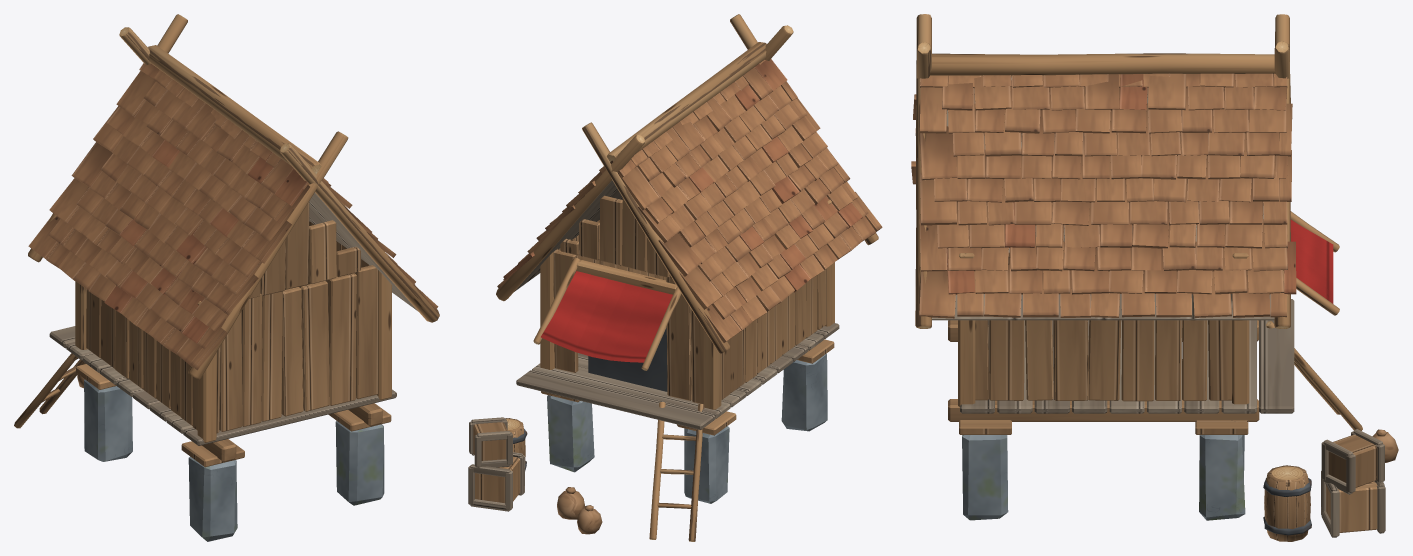
File: bw_granary.fbx
The picture shows the model from 3 angles, left to right: view 1: azimuth 30°, elevation 25°; view 2: azimuth 150°, elevation 25°; view 3: azimuth 270°, elevation 25°; orthographic projection. The views are drawn at different scales.
Parts seen in each view (by area): view 1: bw_granary; view 2: bw_granary; view 3: bw_granary.
Boxes of the visible parts, x1,y1,x2,y2 form: bw_granary: [14, 14, 439, 541]; bw_granary: [468, 14, 882, 541]; bw_granary: [911, 14, 1398, 541].
Size of the model in its own units: 2.12 by 3.15 by 3.11.
